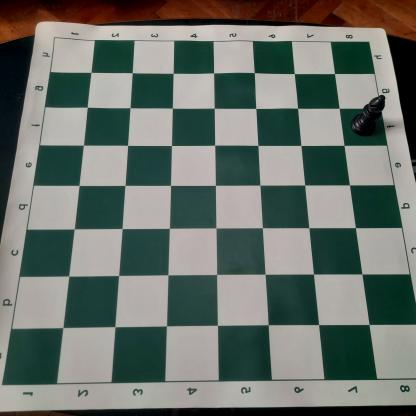black-bishop: (349, 94, 386, 138)
